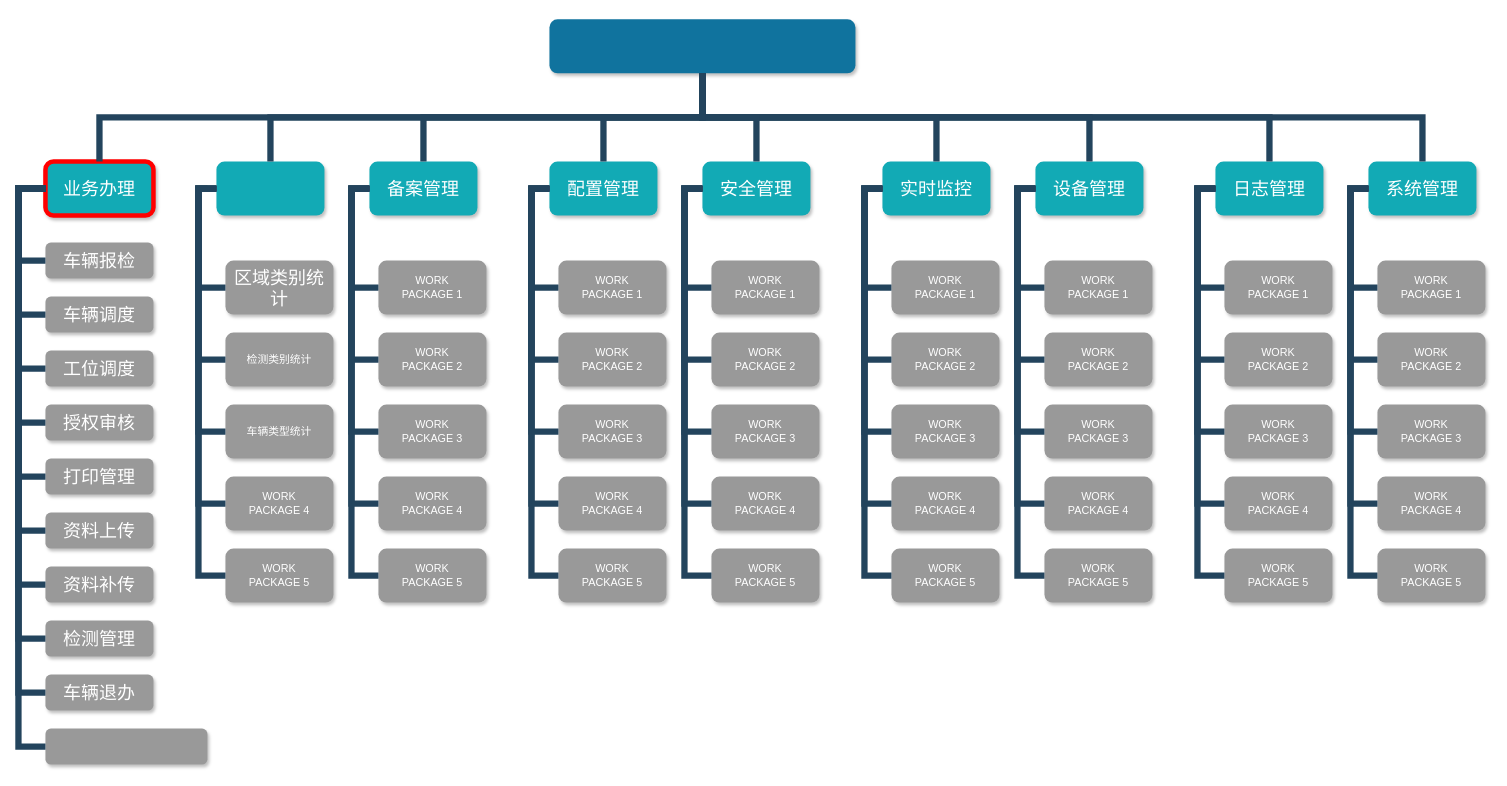
Some shapes in this 1507 by 786 pixel diagram are drawn without their labels. The centre of each missing label's shape, as x and y in pixels:
"业务统计" belongs at pixel 270 189.
"机动车检验业务系统" belongs at pixel 702 47.
"联网审核结果查询" belongs at pixel 126 747.
